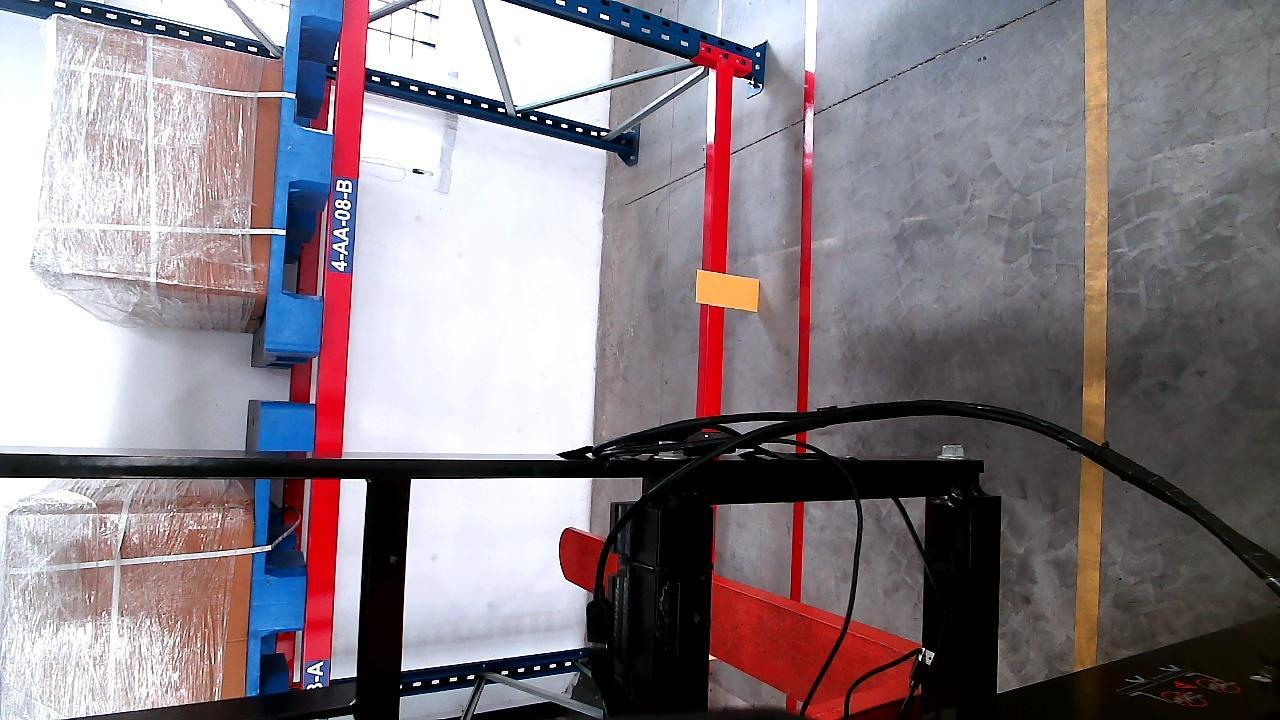red_line: (788, 2, 817, 599)
yellow_line: (1078, 0, 1108, 674)
